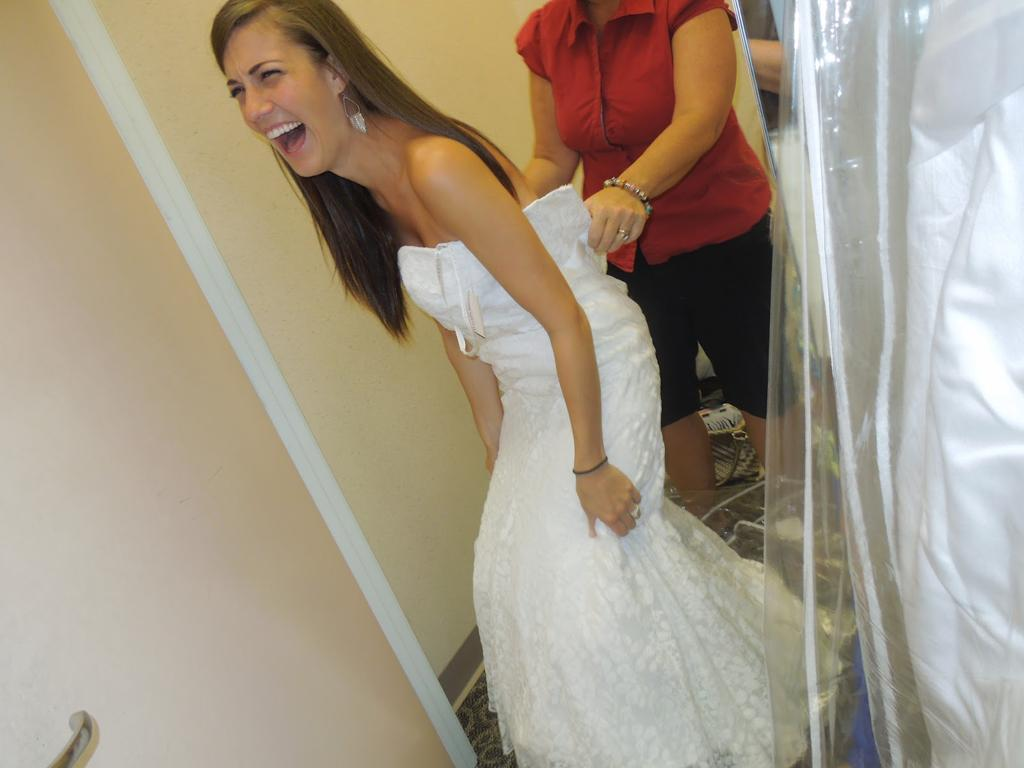face: (224, 16, 342, 174)
